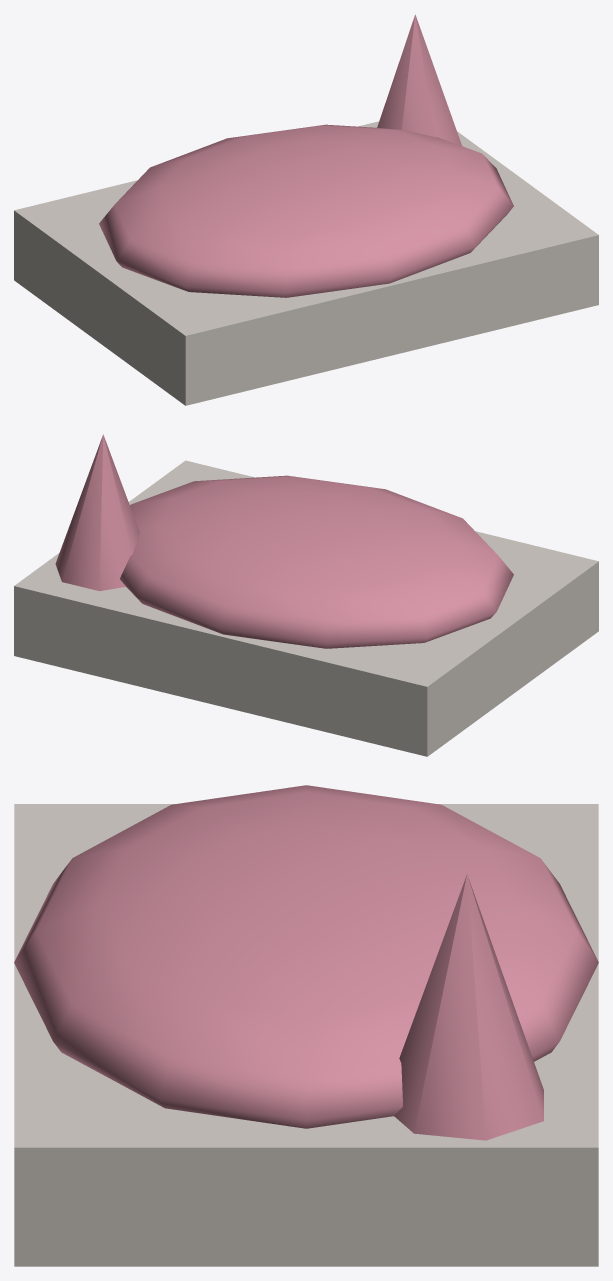
The model's file is home.glb.
3 views of the same model, one above another, from view 1: azimuth 30°, elevation 25°; view 2: azimuth 150°, elevation 25°; view 3: azimuth 270°, elevation 25° (orthographic). The views are drawn at different scales.
Parts seen in each view (by area): view 1: home_base, home_cushion, home_marker; view 2: home_base, home_cushion, home_marker; view 3: home_cushion, home_base, home_marker.
Boxes of the visible parts, x1=… form: home_base: x1=14, y1=121, x2=598, y2=405; home_cushion: x1=99, y1=124, x2=513, y2=297; home_marker: x1=377, y1=14, x2=461, y2=145; home_base: x1=14, y1=460, x2=598, y2=756; home_cushion: x1=120, y1=475, x2=513, y2=648; home_marker: x1=55, y1=434, x2=139, y2=591; home_cushion: x1=14, y1=785, x2=598, y2=1128; home_base: x1=14, y1=804, x2=598, y2=1266; home_marker: x1=394, y1=874, x2=543, y2=1140.
Bounding box in the file's own units: 1.11 × 0.53 × 0.801.
